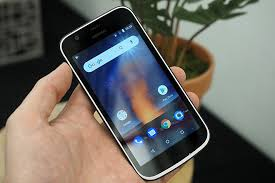nokia: (59, 7, 214, 179)
